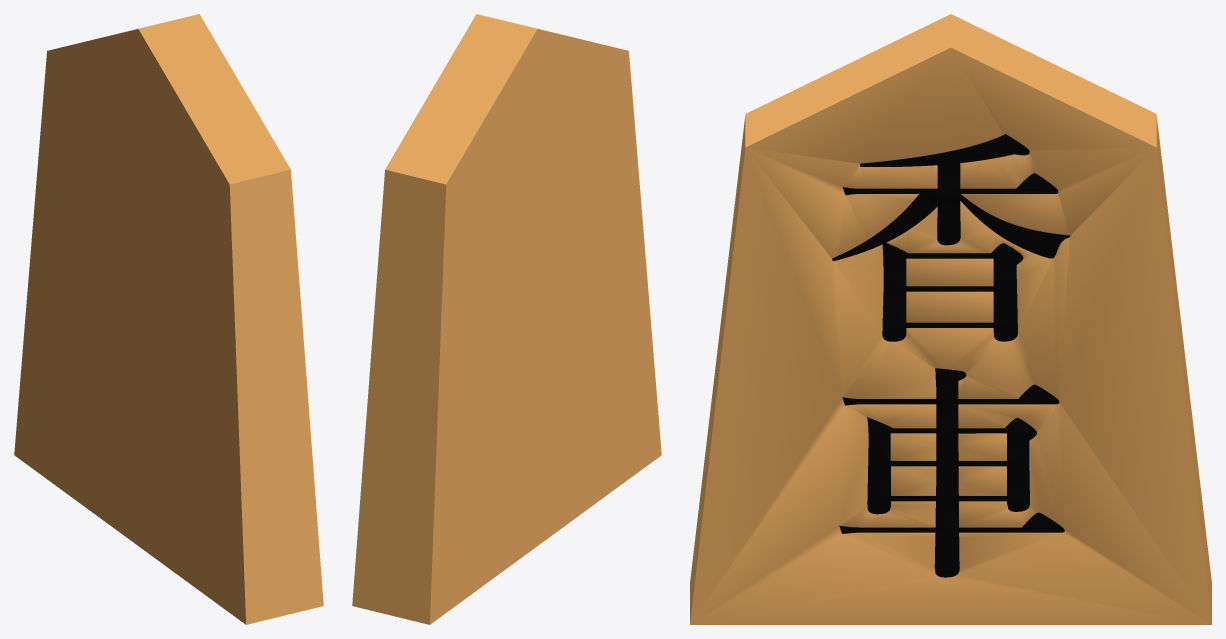
Rendered from JapaneseChessLance.fbx.
3 views of the same model, side by side, from view 1: azimuth 30°, elevation 25°; view 2: azimuth 150°, elevation 25°; view 3: azimuth 270°, elevation 25° (orthographic). The views are drawn at different scales.
Visible parts, largest first — view 1: Cube; view 2: Cube; view 3: Cube.
Boxes of the visible parts, x1=… form: Cube: x1=14, y1=14, x2=323, y2=624; Cube: x1=352, y1=14, x2=661, y2=624; Cube: x1=690, y1=14, x2=1211, y2=624.
Size of the model in its own units: 38.67 by 242 by 200.
2 materials, 2 textured.
